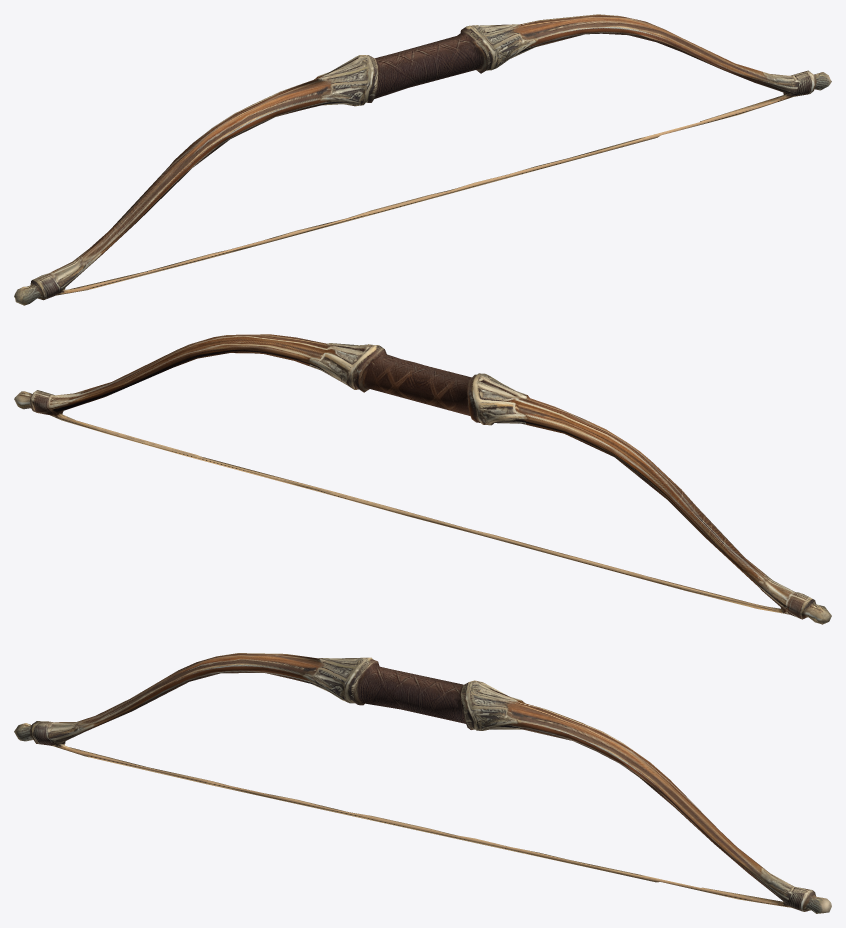
Rendered from Standard.glb.
3 renders of one model, top to bottom at view 1: azimuth 30°, elevation 25°; view 2: azimuth 150°, elevation 25°; view 3: azimuth 330°, elevation 25°, orthographic.
Visible parts, largest first — view 1: Mesh1.0; view 2: Mesh1.0; view 3: Mesh1.0.
Part boxes in pixels (box(x1,y1,x2,y2)): Mesh1.0: box(14, 14, 831, 305); Mesh1.0: box(14, 334, 831, 624); Mesh1.0: box(14, 653, 831, 913).
Size of the model in its own units: 1.91 by 0.3805 by 0.0954.
Materials: 1 (1 with a texture image).
